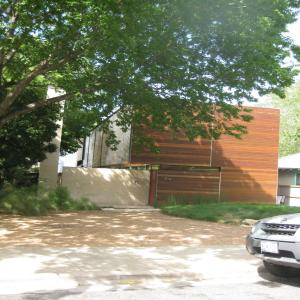Vehicle-registration-plate: (260, 243, 281, 253)
